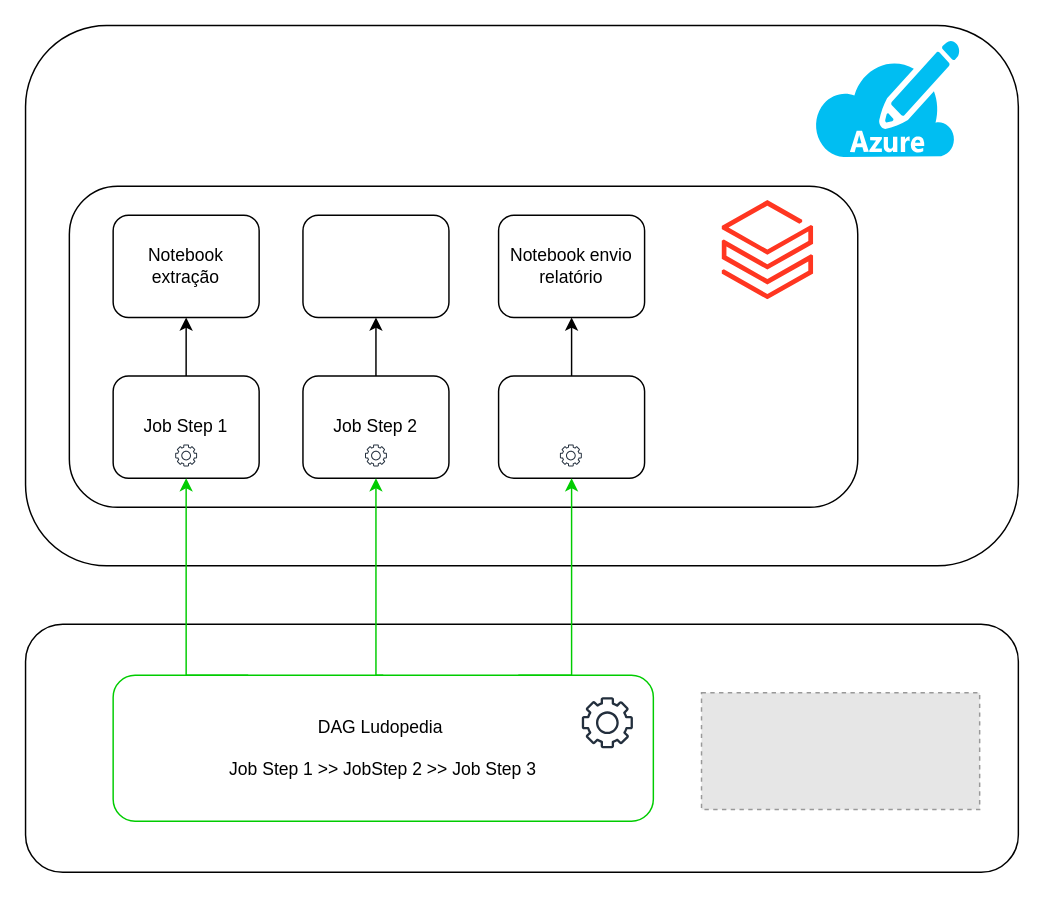
Image size: 1044x898. Some labels were removed from this diagram. Grey dashed boxes stand in for pictures. Each missing label, with the box of its shape:
Job Step 3: (497, 374, 645, 478)
Notebook transformação: (301, 214, 449, 318)
